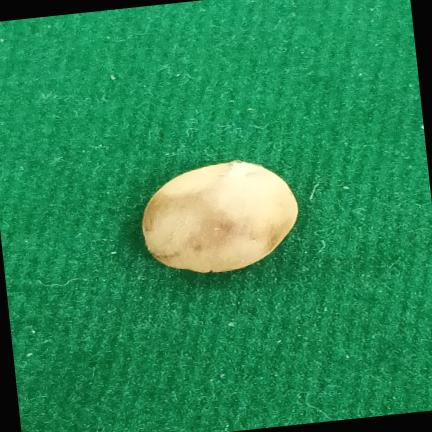parchment: (142, 160, 298, 273)
